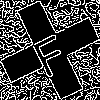F: (25, 25, 72, 80)
